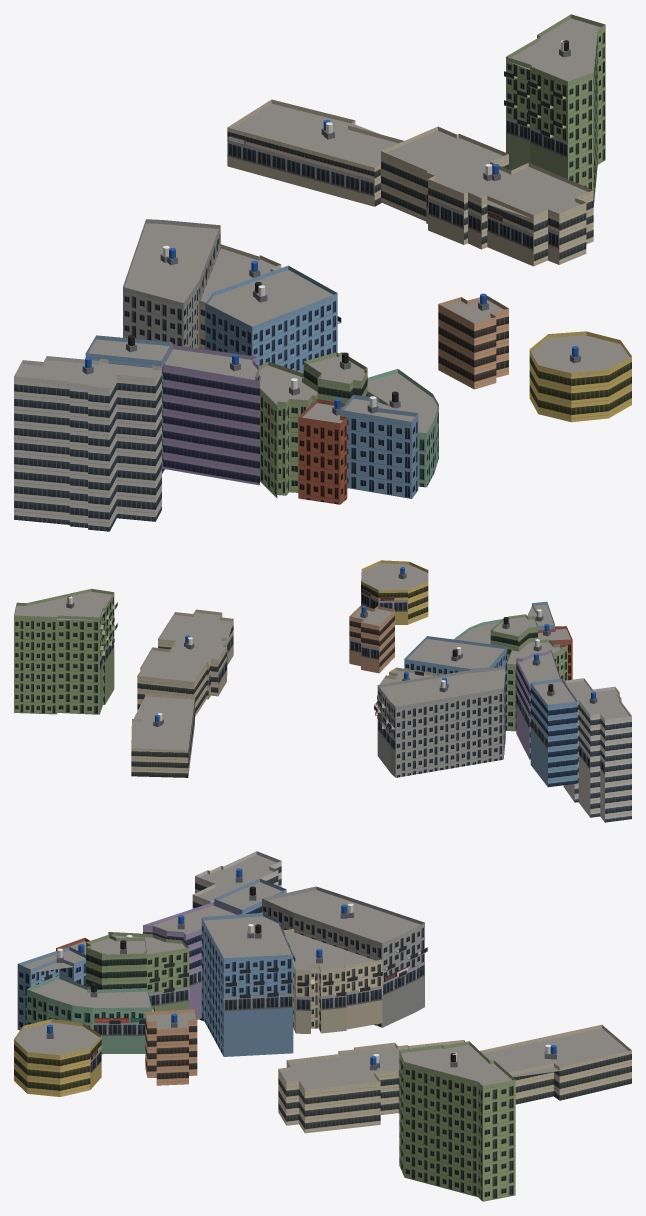
File: session-road-buildings-5.f6cff728.glb
3 renders of one model, top to bottom at view 1: azimuth 30°, elevation 25°; view 2: azimuth 150°, elevation 25°; view 3: azimuth 270°, elevation 25°, orthographic. The views are drawn at different scales.
Size of the model in its own units: 167 by 50.83 by 144.
Materials: 6 (4 with a texture image).
